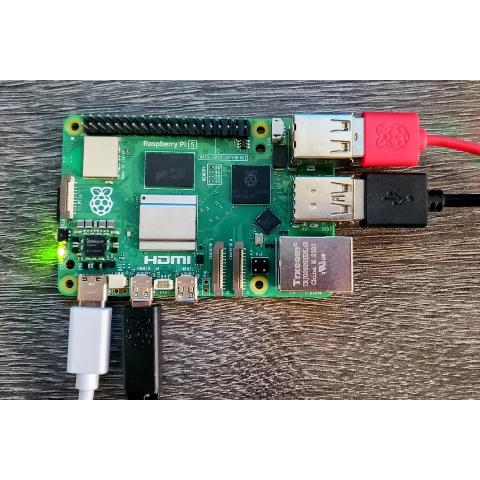Raspberry-Pi-4-Model-B: (52, 107, 358, 309)
